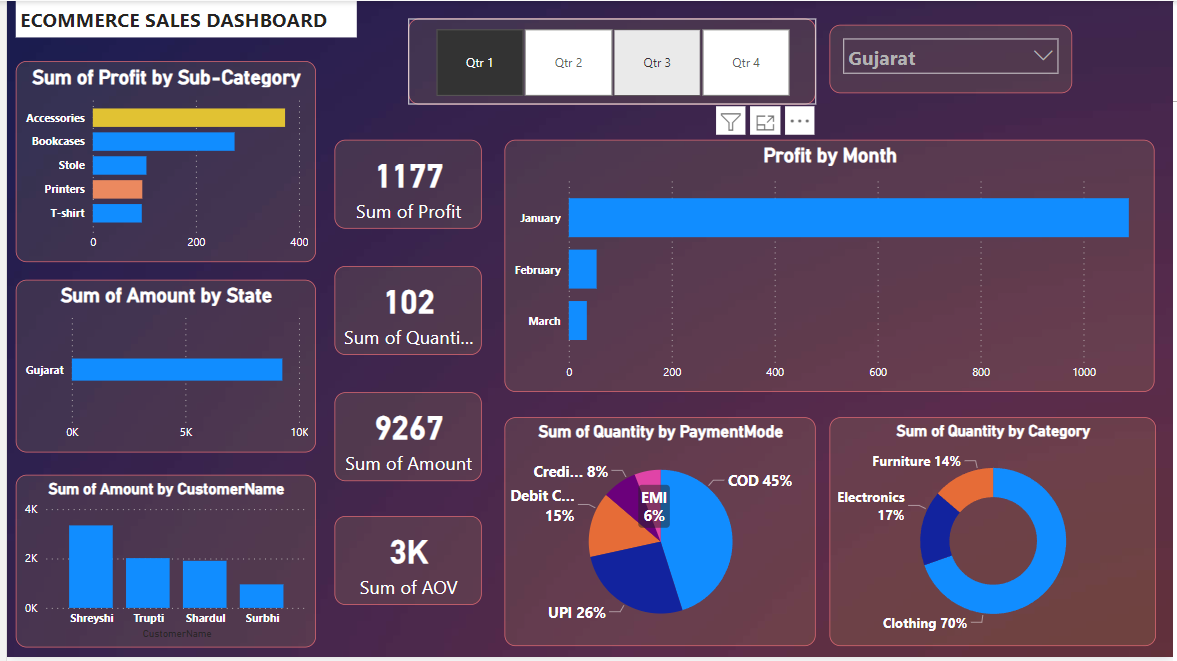

Layout of this report page (visuals, bound fields, positions):
{"tool":"powerbi","page":{"name":"Page 1","canvas":[1280,720],"ordinal":0},"visuals":[{"type":"textbox","box":[9.6,0,374.6,39.8],"z":0},{"type":"clusteredBarChart","title":"Profit by Month","fields":{"Category":["Orders (1).Order Date.Variation.Date Hierarchy.Month"],"Y":["Sum(Details.Profit)"]},"box":[546.1,152.3,713.6,277.2],"z":1000},{"type":"barChart","fields":{"Category":["Details.Sub-Category"],"Y":["Sum(Details.Profit)"]},"box":[9.6,65.9,329.3,220.9],"z":2000},{"type":"donutChart","fields":{"Category":["Details.Category"],"Y":["Sum(Details.Quantity)"]},"box":[902.9,456.9,358.1,251.1],"z":3000},{"type":"pieChart","fields":{"Category":["Details.PaymentMode"],"Y":["Sum(Details.Quantity)"]},"box":[546.1,456.9,341.7,251.1],"z":4000},{"type":"card","fields":{"Values":["Sum(Details.Amount)"]},"box":[359.5,429.5,161.9,97.4],"z":5000},{"type":"card","fields":{"Values":["Sum(Details.Profit)"]},"box":[359.5,152.3,161.9,97.4],"z":6000},{"type":"card","fields":{"Values":["Sum(Details.Quantity)"]},"box":[359.5,290.9,161.9,97.4],"z":7000},{"type":"card","fields":{"Values":["Sum(Details.AOV)"]},"box":[359.5,565.4,161.9,97.4],"z":8000},{"type":"barChart","fields":{"Category":["Orders (1).State"],"Y":["Sum(Details.Amount)"]},"box":[9.6,306,329.3,189.4],"z":9000},{"type":"columnChart","fields":{"Category":["Orders (1).CustomerName"],"Y":["Sum(Details.Amount)"]},"box":[9.6,520.1,329.3,189.4],"z":10000},{"type":"slicer","fields":{"Values":["Orders (1).Order Date.Variation.Date Hierarchy.Quarter"]},"box":[440.5,19.2,447.3,94.7],"z":11000},{"type":"slicer","fields":{"Values":["Orders (1).State"]},"box":[902.9,26.1,266.2,75.5],"z":11001}]}

Visuals, with their boxes in screenshot pixels (x1, y1, x2, y2), scaled from the page's 1280x720 canvas onto the 1177x661 screenshot:
textbox: BBox(9, 0, 353, 37)
"Profit by Month" clusteredBarChart: BBox(502, 140, 1158, 394)
barChart - Details.Sub-Category x Sum(Details.Profit): BBox(9, 60, 312, 263)
donutChart - Details.Category x Sum(Details.Quantity): BBox(830, 419, 1160, 650)
pieChart - Details.PaymentMode x Sum(Details.Quantity): BBox(502, 419, 816, 650)
card - Sum(Details.Amount): BBox(331, 394, 479, 484)
card - Sum(Details.Profit): BBox(331, 140, 479, 229)
card - Sum(Details.Quantity): BBox(331, 267, 479, 356)
card - Sum(Details.AOV): BBox(331, 519, 479, 608)
barChart - Orders (1).State x Sum(Details.Amount): BBox(9, 281, 312, 455)
columnChart - Orders (1).CustomerName x Sum(Details.Amount): BBox(9, 477, 312, 651)
slicer - Orders (1).Order Date.Variation.Date Hierarchy.Quarter: BBox(405, 18, 816, 105)
slicer - Orders (1).State: BBox(830, 24, 1075, 93)
